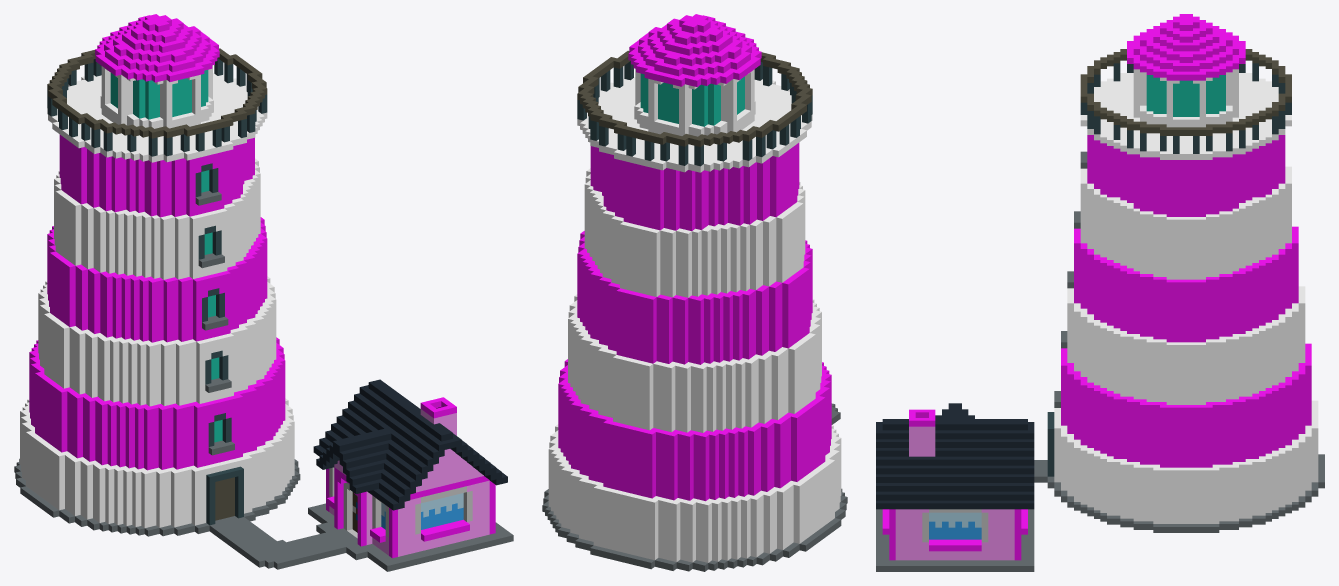
File: lighthouse.obj
3 renders of one model, left to right at view 1: azimuth 30°, elevation 25°; view 2: azimuth 150°, elevation 25°; view 3: azimuth 270°, elevation 25°, orthographic. The views are drawn at different scales.
Bounding box in the file's own units: 5.6 × 7.6 × 6.8.
Materials: 1 (1 with a texture image).
